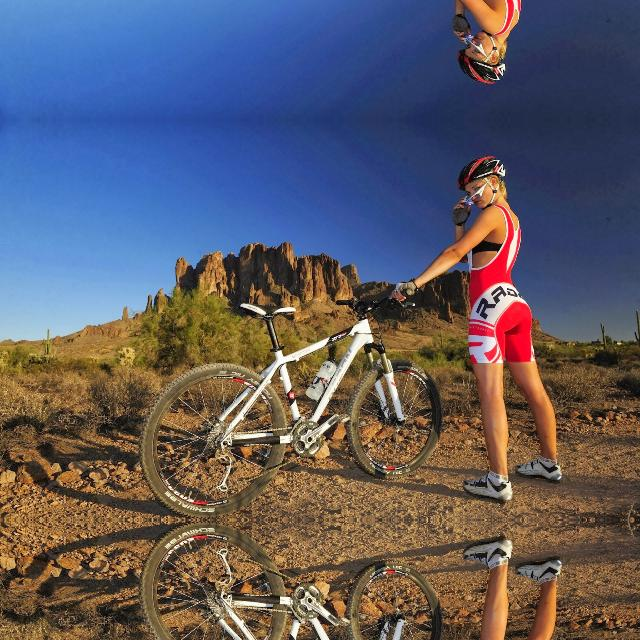obstacle: (122, 276, 444, 520), (121, 520, 444, 640)
